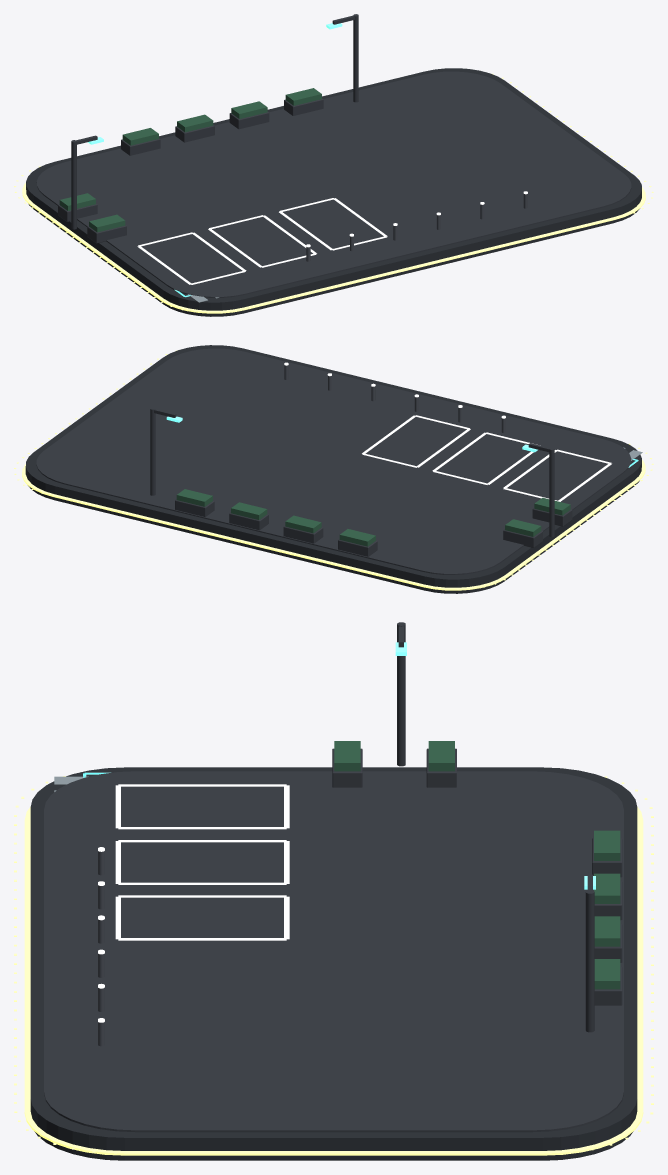
Rendered from ground_facility.glb.
The picture shows the model from 3 angles, top to bottom: view 1: azimuth 30°, elevation 25°; view 2: azimuth 150°, elevation 25°; view 3: azimuth 270°, elevation 25°; orthographic projection. The views are drawn at different scales.
Parts seen in each view (by area): view 1: part_deck, part_platform, part_gold_band, part_mast_0, part_mast_1, part_planter_0, part_planter_4; view 2: part_deck, part_platform, part_gold_band, part_mast_0, part_mast_1, part_planter_1, part_planter_3, part_hedge_1, part_hedge_2, part_hedge_4, part_hedge_5, part_hedge_3 (+5 smaller); view 3: part_deck, part_platform, part_gold_band, part_mast_1, part_mast_0, part_hedge_0, part_hedge_4, part_hedge_1, part_hedge_2, part_hedge_5, part_hedge_3.
Boxes of the visible parts, x1,y1,x2,y2 form: part_deck: [36, 71, 631, 297]; part_platform: [26, 68, 641, 316]; part_gold_band: [22, 183, 645, 313]; part_mast_0: [71, 140, 76, 229]; part_mast_1: [353, 14, 358, 102]; part_planter_0: [87, 225, 126, 243]; part_planter_4: [229, 112, 269, 129]; part_deck: [36, 348, 631, 574]; part_platform: [25, 345, 641, 593]; part_gold_band: [22, 459, 645, 590]; part_mast_0: [549, 447, 554, 537]; part_mast_1: [150, 407, 155, 495]; part_planter_1: [503, 529, 542, 547]; part_planter_3: [283, 526, 323, 543]; part_hedge_1: [505, 519, 541, 536]; part_hedge_2: [339, 529, 375, 546]; part_hedge_4: [231, 502, 267, 519]; part_hedge_5: [176, 489, 212, 506]; part_hedge_3: [285, 515, 321, 533]; part_deck: [44, 771, 623, 1132]; part_platform: [30, 767, 637, 1160]; part_gold_band: [24, 806, 643, 1155]; part_mast_1: [585, 890, 594, 1032]; part_mast_0: [397, 622, 405, 766]; part_hedge_0: [334, 741, 360, 771]; part_hedge_4: [594, 916, 620, 946]; part_hedge_1: [428, 741, 454, 771]; part_hedge_2: [594, 830, 620, 860]; part_hedge_5: [594, 959, 620, 989]; part_hedge_3: [594, 873, 620, 903].
Bounding box in the file's own units: 26.98 × 5.35 × 18.98.
